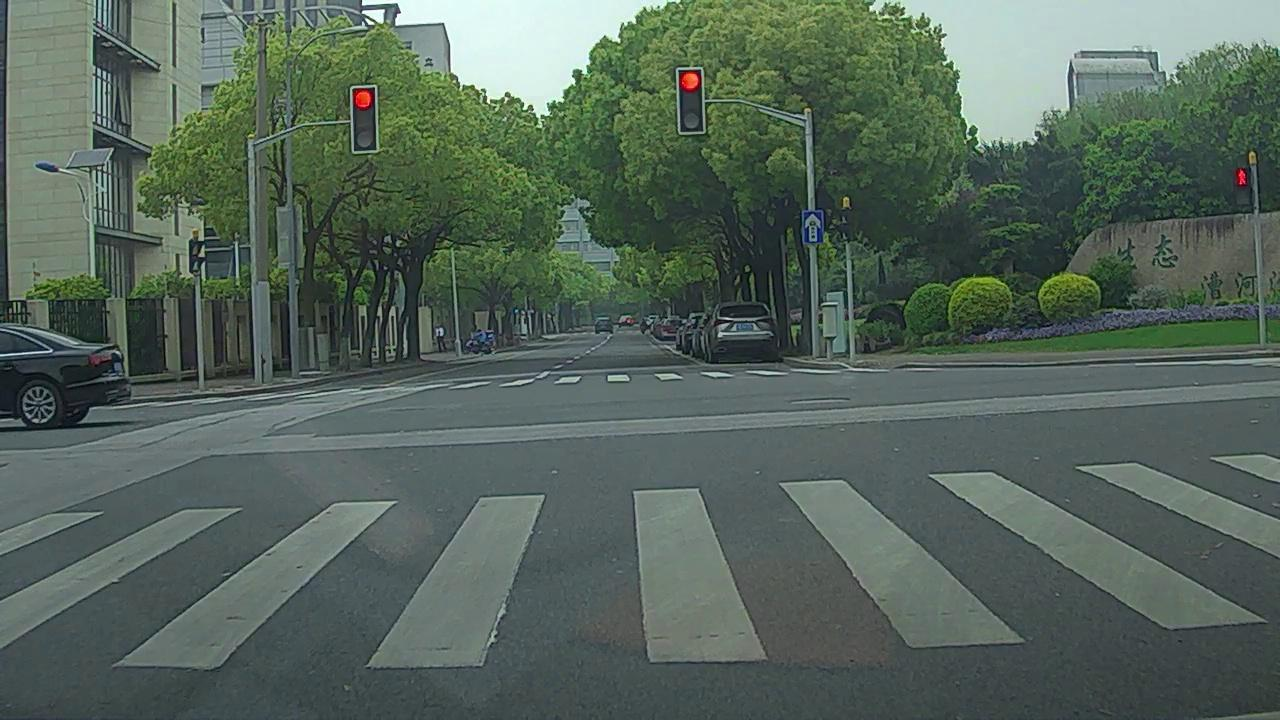traffic_light: (349, 86, 377, 149), (678, 69, 705, 134)
